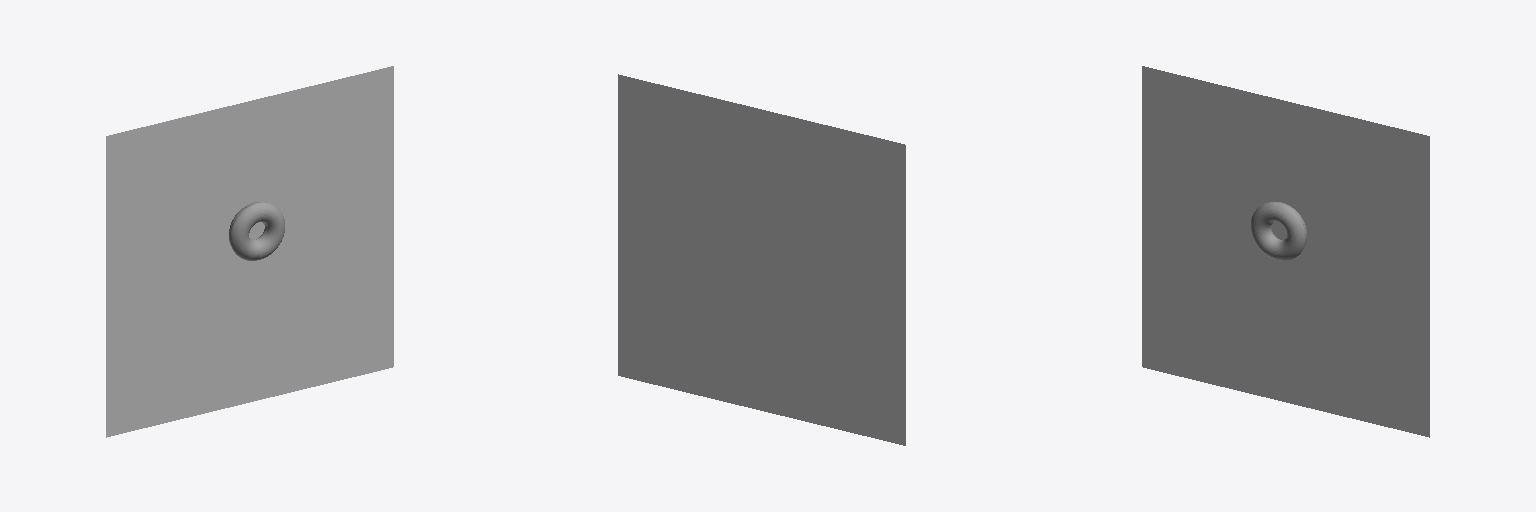
File: DonutWithStoneTexture.obj
3 views of the same model, side by side, from view 1: azimuth 30°, elevation 25°; view 2: azimuth 150°, elevation 25°; view 3: azimuth 330°, elevation 25° (orthographic).
Visible parts, largest first — view 1: Plane_Plane.001, Torus.000_Torus.002; view 2: Plane_Plane.001; view 3: Plane_Plane.001, Torus.000_Torus.002.
Boxes of the visible parts, box(x1,y1,x2,y2) form: Plane_Plane.001: box(106, 66, 393, 437); Torus.000_Torus.002: box(230, 202, 284, 260); Plane_Plane.001: box(618, 74, 905, 445); Plane_Plane.001: box(1142, 66, 1429, 437); Torus.000_Torus.002: box(1251, 202, 1305, 260).
Bounding box in the file's own units: 16 × 16 × 1.13.